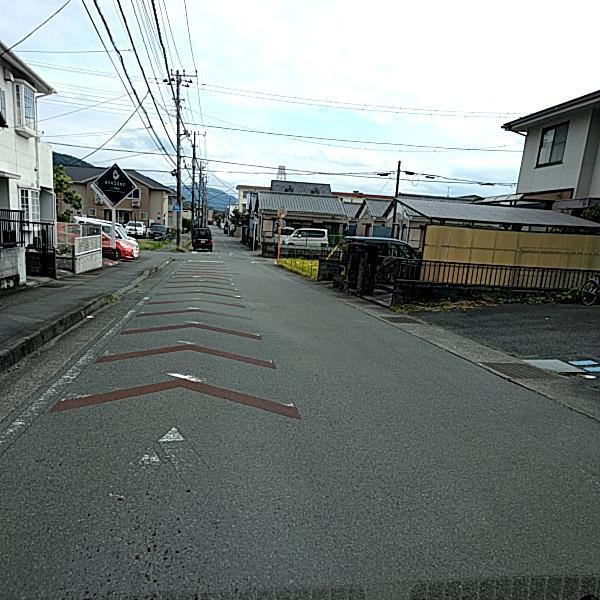D44: (0, 278, 165, 449)
